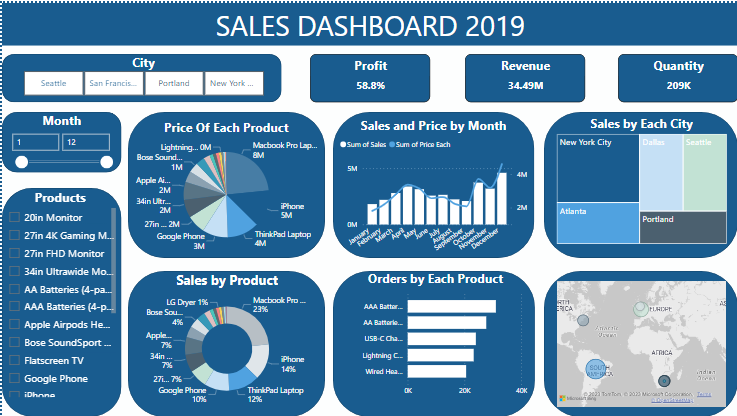

The page's visual inventory and layout, read from the dashboard file:
{"tool":"powerbi","page":{"name":"Page 1","canvas":[1280,720],"ordinal":0},"visuals":[{"type":"textbox","box":[0,0,1280,73.8],"z":0},{"type":"shape","box":[218.8,188.8,342.5,253.8],"z":0,"group":"g1"},{"type":"shape","box":[942.6,466.1,337.5,253.8],"z":0,"group":"g2"},{"type":"card","title":"Profit","fields":{"Values":["Sales Data.Measure"]},"box":[535,88.8,208.8,83.8],"z":1000},{"type":"pieChart","title":"Price Of Each Product","fields":{"Category":["Sales Data.Product"],"Y":["Sales Data.Price Each max per Product"]},"box":[224.1,200.4,331.2,235],"z":1000,"group":"g1"},{"type":"map","fields":{"Size":["Sales Data.Quantity Ordered max per Purchase Address.2"],"Category":["Sales Data.Purchase Address.2"],"Series":["Sales Data.Purchase Address.2"]},"box":[959.5,478.3,303.8,228.8],"z":1000,"group":"g2"},{"type":"card","title":"Revenue","fields":{"Values":["Sum(Sales Data.Sales)"]},"box":[805,88.8,208.8,83.8],"z":2000},{"type":"card","title":"Quantity","fields":{"Values":["Sum(Sales Data.Quantity Ordered)"]},"box":[1071.2,88.8,208.8,83.8],"z":3000},{"type":"shape","box":[575.7,466.1,351.3,253.9],"z":4000},{"type":"shape","box":[219.1,466.1,342.6,253.9],"z":5000},{"type":"shape","box":[576.2,188.8,350,253.8],"z":6000},{"type":"shape","box":[942.5,188.8,337.5,253.8],"z":7000},{"type":"lineStackedColumnComboChart","title":"Sales and Price by Month","fields":{"Category":["Sales Data.Order Date.1.Variation.Date Hierarchy.Month"],"Y":["Sum(Sales Data.Sales)"],"Y2":["Sum(Sales Data.Price Each)"]},"box":[582.5,198.8,336.2,255],"z":8000},{"type":"treemap","title":"Sales by Each City","fields":{"Group":["Sales Data.City"],"Values":["Sum(Sales Data.Sales)"]},"box":[960,195,305,228.8],"z":9000},{"type":"clusteredBarChart","title":"Orders by  Each Product","fields":{"Category":["Sales Data.Product"],"Y":["Sum(Sales Data.Quantity Ordered)"]},"box":[590,465,328.8,241.2],"z":10000},{"type":"donutChart","title":"Sales by Product","fields":{"Y":["Sum(Sales Data.Sales)"],"Category":["Sales Data.Product"]},"box":[245.2,466.1,292.2,240],"z":11000},{"type":"group","id":"g1","title":"Group 1","box":[218.8,188.8,342.5,253.8],"z":12000},{"type":"group","id":"g2","title":"Group 2","box":[942.6,466.1,337.4,253.9],"z":13000},{"type":"shape","box":[0,88.8,486.2,83.8],"z":14000,"group":"g5"},{"type":"group","id":"g3","title":"Group 3","box":[0,188.8,207.5,106.2],"z":14000},{"type":"slicer","title":"City","fields":{"Values":["Sales Data.City"]},"box":[17.1,88.8,457.3,73.8],"z":15000,"group":"g5"},{"type":"group","id":"g4","title":"Group 4","box":[0,321.7,207,398.3],"z":15000},{"type":"group","id":"g5","title":"Group 5","box":[0,88.8,486.2,83.8],"z":16000},{"type":"shape","box":[0,321.7,207.5,397.5],"z":16000,"group":"g4"},{"type":"slicer","title":"Products","fields":{"Values":["Sales Data.Product"]},"box":[0,323.7,202.5,366.9],"z":17000,"group":"g4"},{"type":"shape","box":[0,188.8,207.5,105],"z":18000,"group":"g3"},{"type":"slicer","title":"Month","fields":{"Values":["Sales Data.Month"]},"box":[5,188.8,197.5,106.2],"z":19000,"group":"g3"}]}

Visuals, with their boxes in screenshot pixels (x1, y1, x2, y2), scaled from the page's 1280x720 canvas onto the 737x416 screenshot:
textbox: <region>0, 0, 736, 43</region>
shape: <region>126, 109, 323, 256</region>
shape: <region>543, 269, 736, 415</region>
"Profit" card: <region>308, 51, 428, 100</region>
"Price Of Each Product" pieChart: <region>129, 116, 320, 252</region>
map - Sales Data.Quantity Ordered max per Purchase Address.2 x Sales Data.Purchase Address.2: <region>552, 276, 727, 409</region>
"Revenue" card: <region>464, 51, 584, 100</region>
"Quantity" card: <region>617, 51, 736, 100</region>
shape: <region>331, 269, 534, 415</region>
shape: <region>126, 269, 323, 415</region>
shape: <region>332, 109, 533, 256</region>
shape: <region>543, 109, 736, 256</region>
"Sales and Price by Month" lineStackedColumnComboChart: <region>335, 115, 529, 262</region>
"Sales by Each City" treemap: <region>553, 113, 728, 245</region>
"Orders by  Each Product" clusteredBarChart: <region>340, 269, 529, 408</region>
"Sales by Product" donutChart: <region>141, 269, 309, 408</region>
"Group 1" group: <region>126, 109, 323, 256</region>
"Group 2" group: <region>543, 269, 736, 415</region>
shape: <region>0, 51, 280, 100</region>
"Group 3" group: <region>0, 109, 119, 170</region>
"City" slicer: <region>10, 51, 273, 94</region>
"Group 4" group: <region>0, 186, 119, 415</region>
"Group 5" group: <region>0, 51, 280, 100</region>
shape: <region>0, 186, 119, 415</region>
"Products" slicer: <region>0, 187, 117, 399</region>
shape: <region>0, 109, 119, 170</region>
"Month" slicer: <region>3, 109, 117, 170</region>
